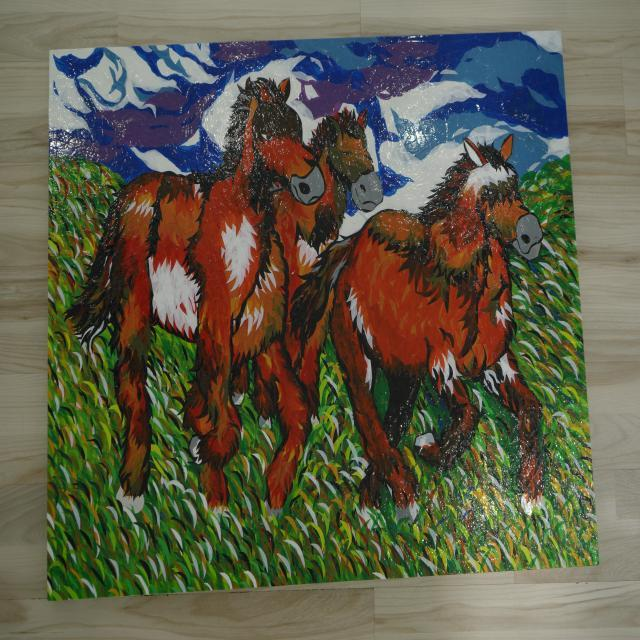painting: (48, 32, 598, 599)
